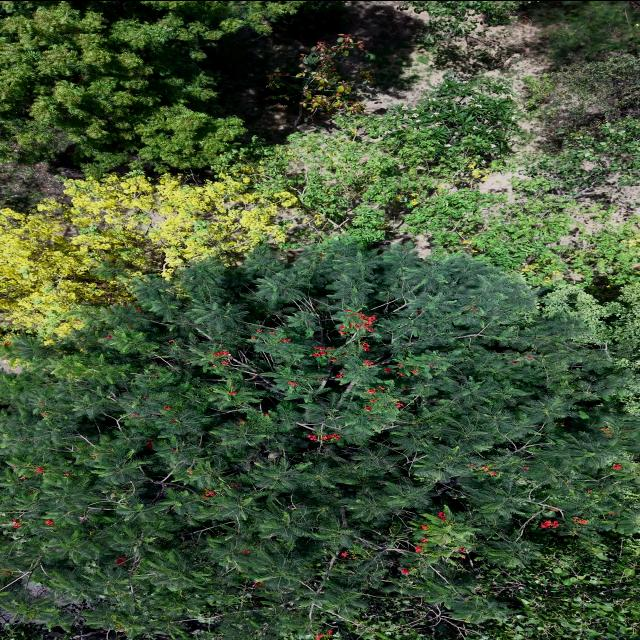VEGETATION_TREE: (0, 1, 639, 639), (2, 241, 636, 638), (2, 79, 635, 341), (2, 78, 635, 338), (235, 78, 636, 285), (0, 1, 299, 174), (0, 175, 295, 343), (255, 79, 519, 241), (334, 535, 639, 639), (403, 178, 636, 286), (523, 1, 639, 193), (443, 182, 639, 287), (466, 537, 639, 639), (266, 34, 371, 124), (528, 52, 639, 126), (537, 115, 639, 188), (539, 283, 639, 357), (523, 1, 639, 58), (399, 1, 518, 49), (402, 1, 518, 29), (275, 1, 346, 38)
